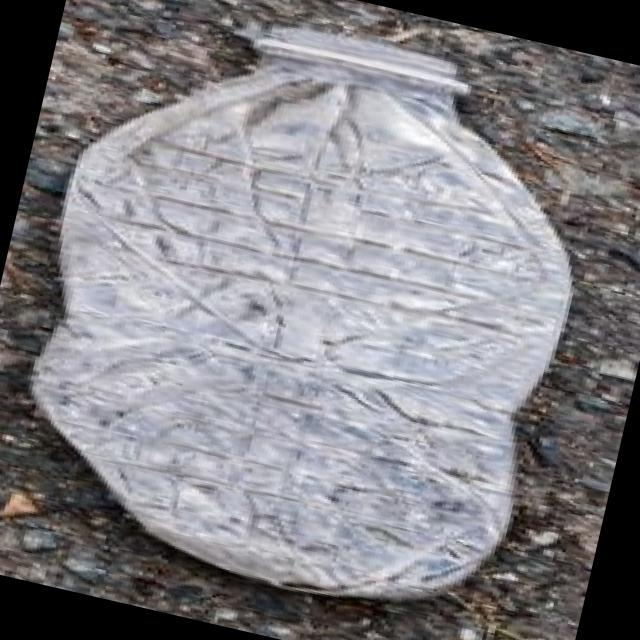general: (0, 0, 618, 636)
